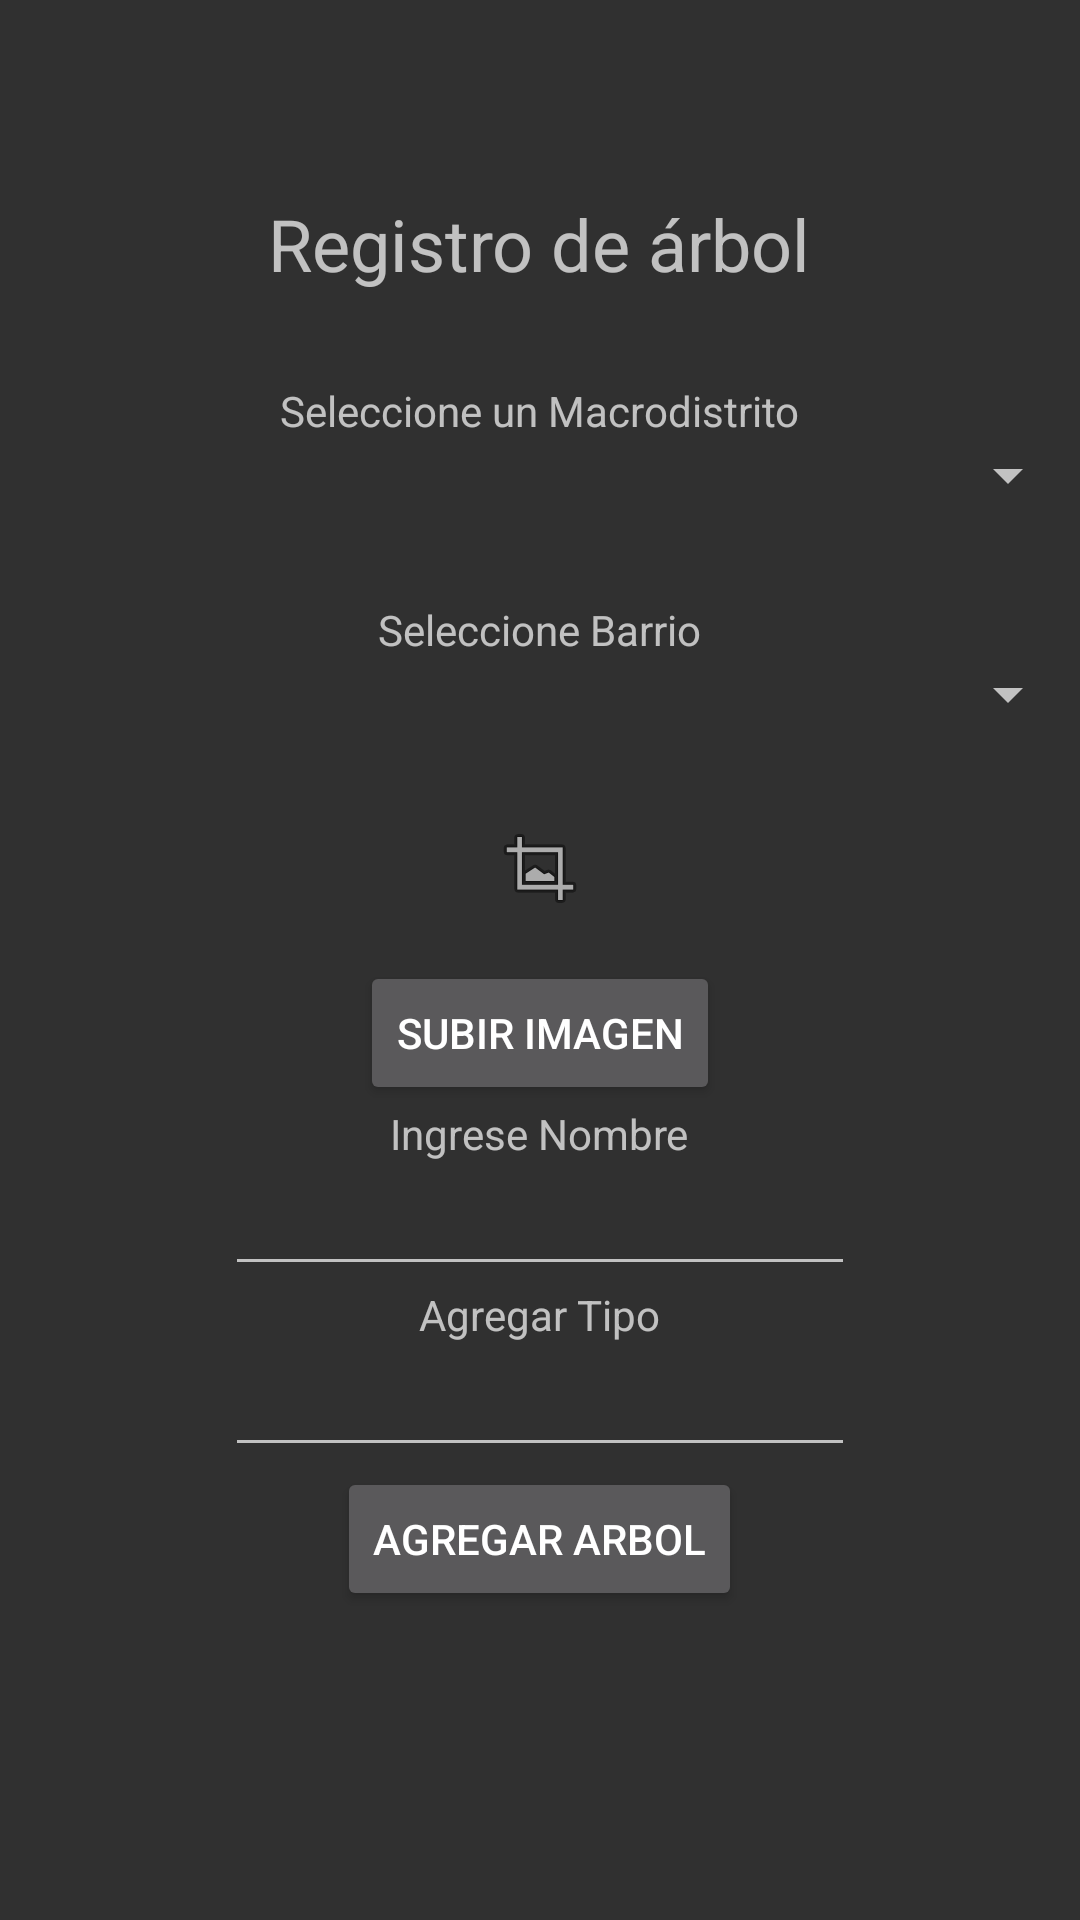

Screen size 1080×1920. Icon name, then its center in pixels as [x,y]:
crop: [540,868]
